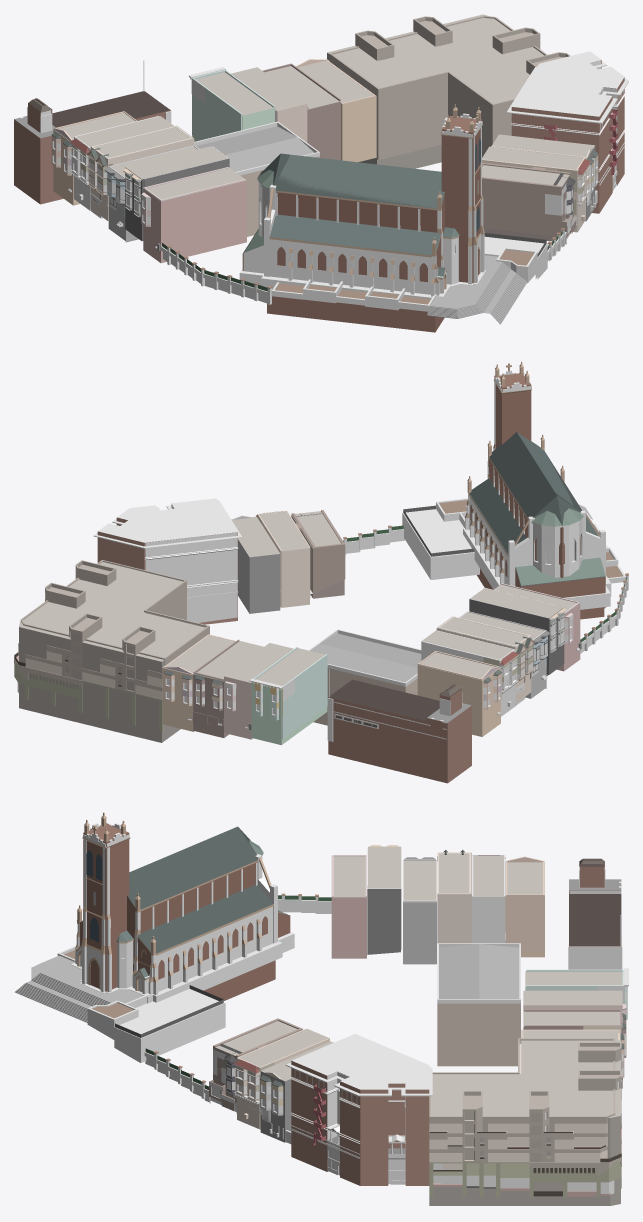
The model's file is church.dae.
The picture shows the model from 3 angles, top to bottom: view 1: azimuth 30°, elevation 25°; view 2: azimuth 150°, elevation 25°; view 3: azimuth 270°, elevation 25°; orthographic projection. The views are drawn at different scales.
Parts seen in each view (by area): view 1: church_a500, church_a3000; view 2: church_a500, church_a3000; view 3: church_a500, church_a3000, church_a700.
Part boxes in pixels (box(x1,y1,x2,y2)): church_a500: box(14, 14, 624, 332); church_a3000: box(19, 15, 628, 324); church_a500: box(19, 373, 605, 783); church_a3000: box(14, 361, 628, 741); church_a500: box(79, 823, 624, 1205); church_a3000: box(14, 812, 628, 1197); church_a700: box(86, 850, 605, 1117).
Bounding box in the file's own units: 133 × 147 × 65.62.
